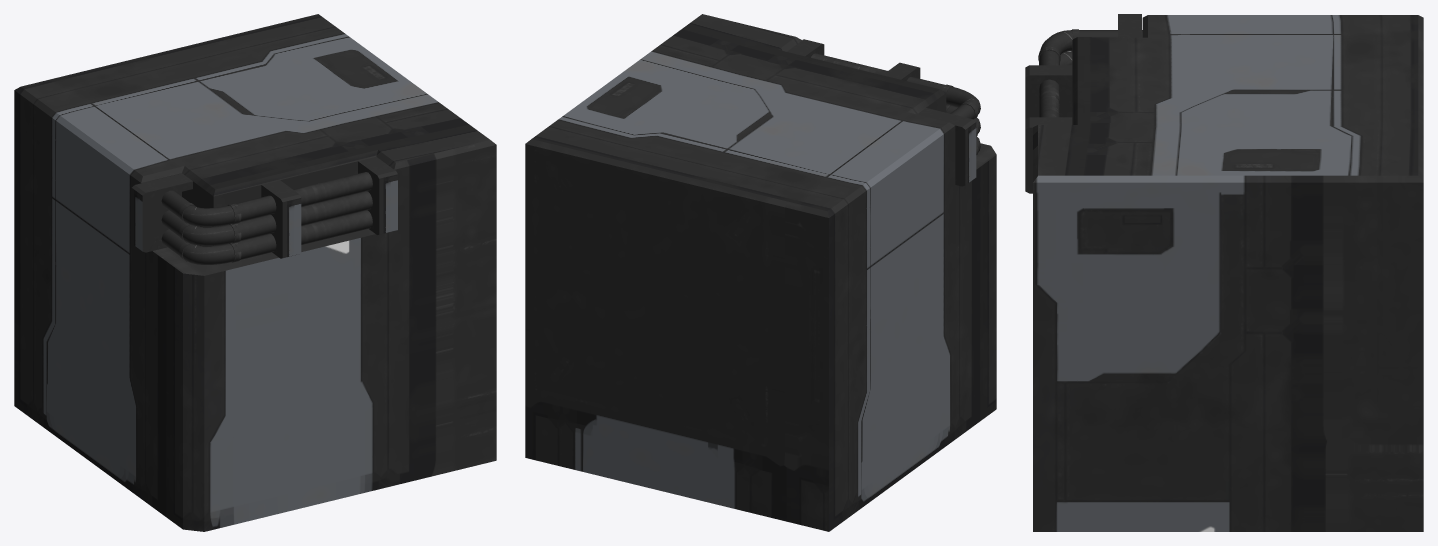
File: Box_1_Dummy.fbx
3 views of the same model, side by side, from view 1: azimuth 30°, elevation 25°; view 2: azimuth 150°, elevation 25°; view 3: azimuth 270°, elevation 25° (orthographic). The views are drawn at different scales.
Parts seen in each view (by area): view 1: Box002, Line003, Line001, Line002, Connection, Connection004, Connection005; view 2: Box002, Connection, Line003; view 3: Box002, Line003, Connection004, Connection005, Connection.
Part boxes in pixels (x1,y1,x2,y2): Box002: (14, 14, 496, 531); Line003: (161, 172, 372, 226); Line001: (161, 210, 372, 264); Line002: (161, 191, 372, 245); Connection: (131, 173, 192, 252); Connection004: (261, 180, 301, 258); Connection005: (358, 156, 397, 234); Box002: (525, 14, 996, 531); Connection: (917, 108, 976, 186); Line003: (811, 53, 980, 119); Box002: (1033, 15, 1423, 531); Line003: (1038, 29, 1142, 117); Connection004: (1025, 65, 1072, 119); Connection005: (1025, 117, 1072, 193); Connection: (1118, 14, 1141, 37).
Size of the model in its own units: 134 by 130 by 133.
